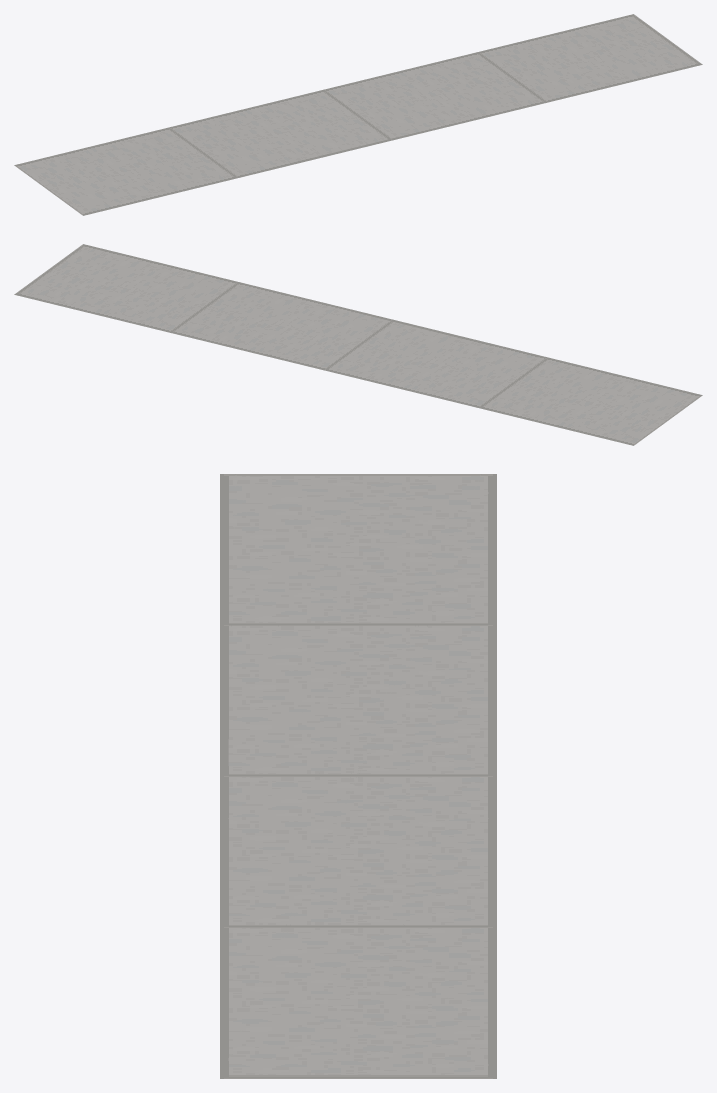
File: kd_stage_135ded_4_129_exterior_piece_5.glb
3 views of the same model, one above another, from view 1: azimuth 30°, elevation 25°; view 2: azimuth 150°, elevation 25°; view 3: azimuth 270°, elevation 25° (orthographic). The views are drawn at different scales.
Parts seen in each view (by area): view 1: kd_stage_135ded_4_129_exterior_piece_5; view 2: kd_stage_135ded_4_129_exterior_piece_5; view 3: kd_stage_135ded_4_129_exterior_piece_5.
Boxes of the visible parts, x1=… form: kd_stage_135ded_4_129_exterior_piece_5: x1=14, y1=14, x2=702, y2=215; kd_stage_135ded_4_129_exterior_piece_5: x1=14, y1=244, x2=702, y2=445; kd_stage_135ded_4_129_exterior_piece_5: x1=220, y1=474, x2=496, y2=1078.
Size of the model in its own units: 4.53 by 5.96e-08 by 0.8777.
1 material, 1 textured.
